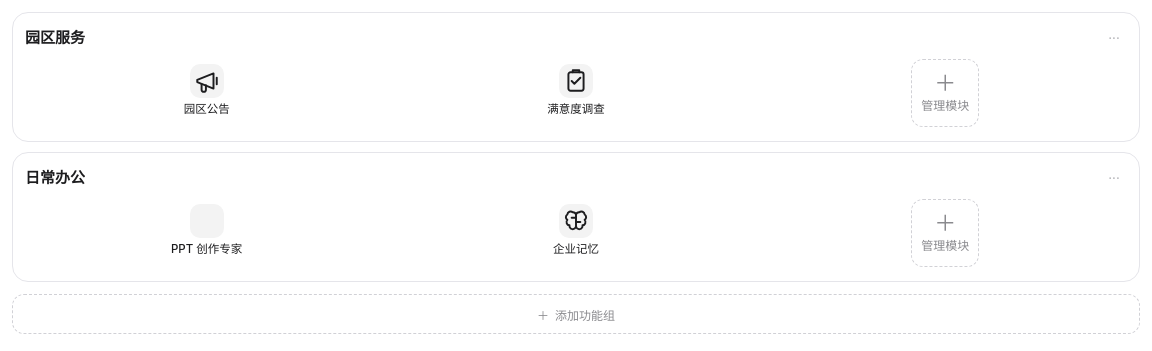
Test case: ModuleWorkspace › keeps editing visuals limited to remove controls
Click the button named "功能组菜单：园区服务" at x=1114, y=38, box [1101,25,1127,51]
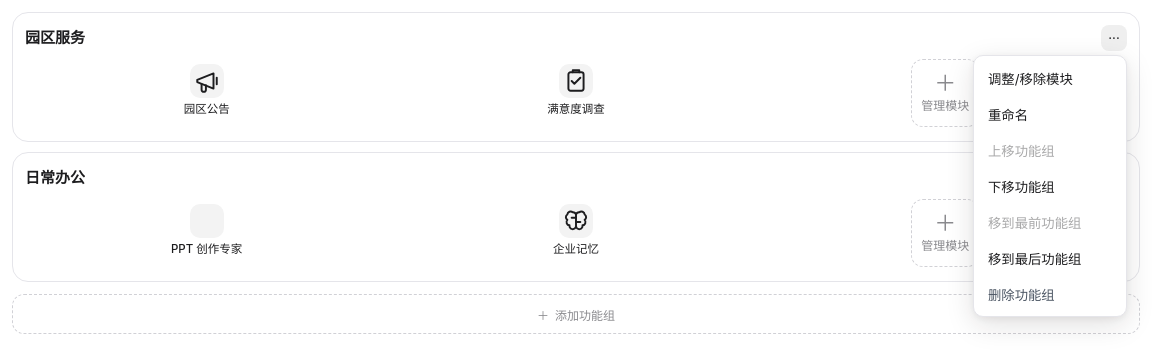
Click the menu item "调整/移除模块" at x=1050, y=78, box [979,61,1121,95]
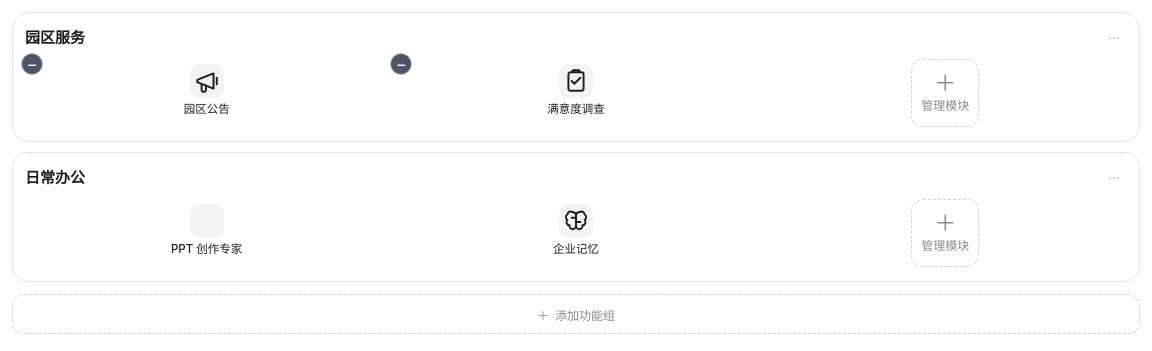
expect the button named "移除 园区公告" is shown: met, box [21,53,43,75]
Click the button named "功能组菜单：园区服务" at x=1114, y=38, box [1101,25,1127,51]
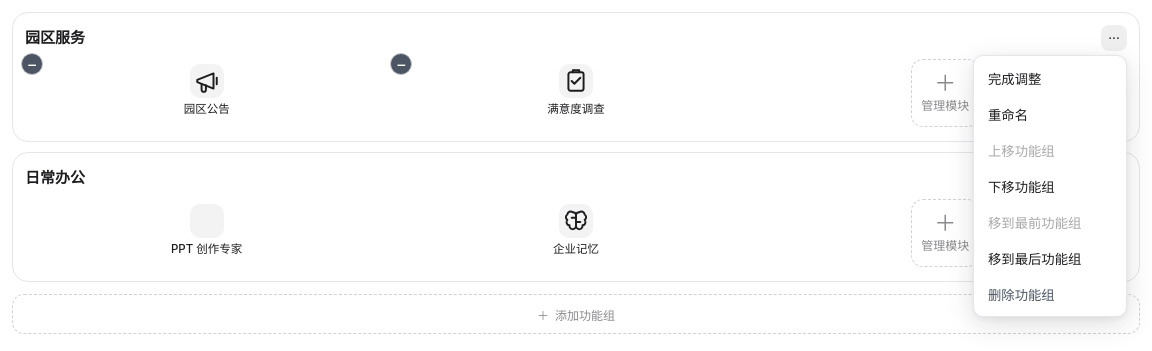
expect the menu named "园区服务设置" is shown: met, box [973,55,1127,317]
